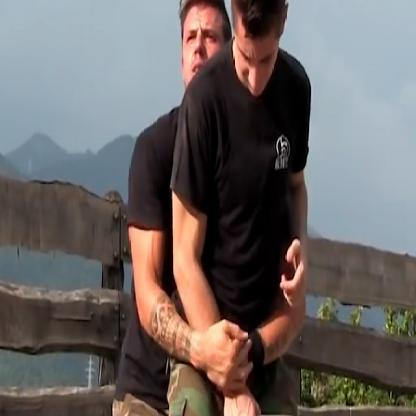knife: (218, 399, 311, 415)
